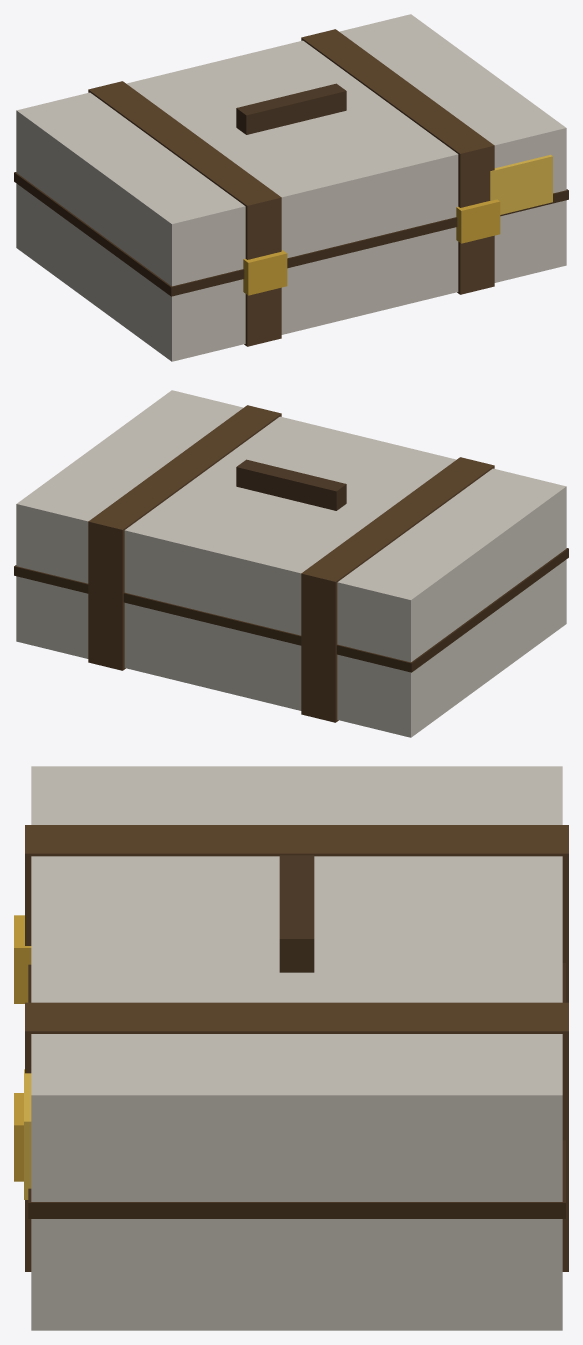
Rendered from suitcase.glb.
The picture shows the model from 3 angles, top to bottom: view 1: azimuth 30°, elevation 25°; view 2: azimuth 150°, elevation 25°; view 3: azimuth 270°, elevation 25°; orthographic projection. The views are drawn at different scales.
Parts seen in each view (by area): view 1: suitcase; view 2: suitcase; view 3: suitcase.
Part boxes in pixels (box(x1,y1,x2,y2)): suitcase: box(14, 14, 568, 361); suitcase: box(14, 390, 568, 737); suitcase: box(14, 766, 568, 1330).
Size of the model in its own units: 0.635 by 0.2425 by 0.449.
